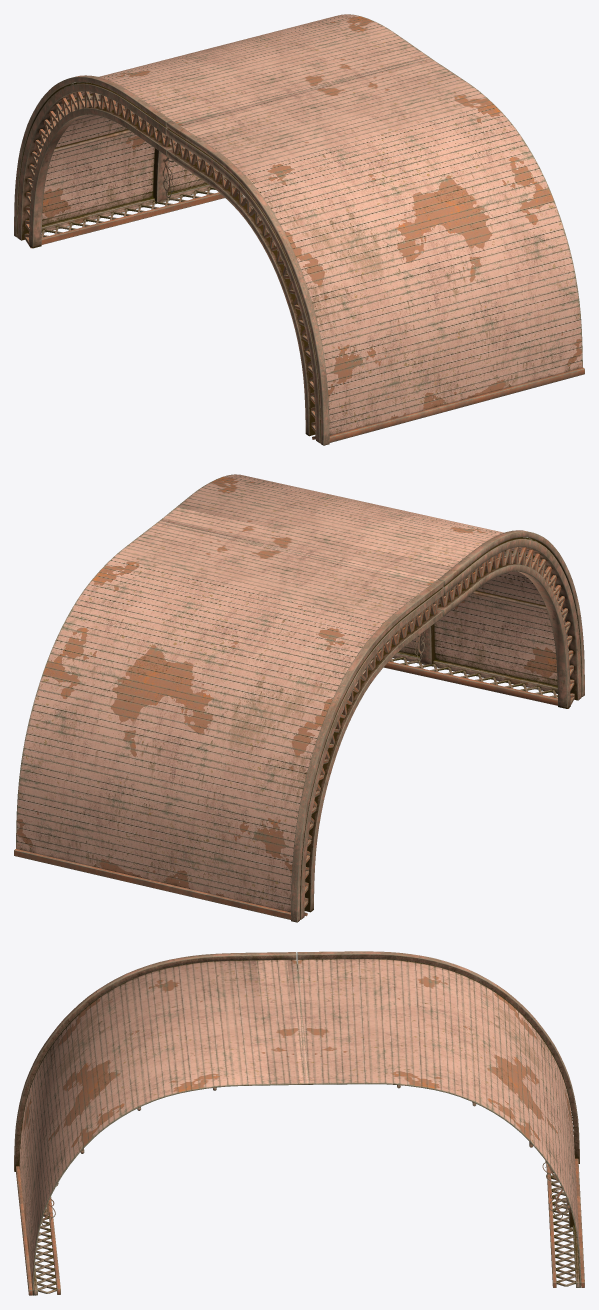
The model's file is TunelTren.obj.
3 views of the same model, one above another, from view 1: azimuth 30°, elevation 25°; view 2: azimuth 150°, elevation 25°; view 3: azimuth 270°, elevation 25° (orthographic). The views are drawn at different scales.
Visible parts, largest first — view 1: roof3_roof1_0.001_roof1, roof3_roof1_0.001_roof1.001, roof3_roof1_0.001_kambi, roof3_roof1_0.001_kambi.001; view 2: roof3_roof1_0.001_roof1.001, roof3_roof1_0.001_roof1, roof3_roof1_0.001_kambi.001, roof3_roof1_0.001_kambi; view 3: roof3_roof1_0.001_roof1, roof3_roof1_0.001_roof1.001, roof3_roof1_0.001_kambi.001, roof3_roof1_0.001_kambi.
Boxes of the visible parts, box(x1,y1,x2,y2) form: roof3_roof1_0.001_roof1: box(170, 56, 584, 442); roof3_roof1_0.001_roof1.001: box(24, 14, 431, 248); roof3_roof1_0.001_kambi: box(166, 121, 329, 445); roof3_roof1_0.001_kambi.001: box(14, 75, 172, 248); roof3_roof1_0.001_roof1.001: box(14, 520, 439, 919); roof3_roof1_0.001_roof1: box(157, 474, 574, 708); roof3_roof1_0.001_kambi.001: box(291, 580, 443, 922); roof3_roof1_0.001_kambi: box(418, 530, 584, 708); roof3_roof1_0.001_roof1: box(16, 959, 309, 1295); roof3_roof1_0.001_roof1.001: box(297, 959, 584, 1287); roof3_roof1_0.001_kambi.001: box(297, 951, 579, 1227); roof3_roof1_0.001_kambi: box(14, 952, 296, 1216).
Size of the model in its own units: 32.77 by 24.52 by 58.66.
